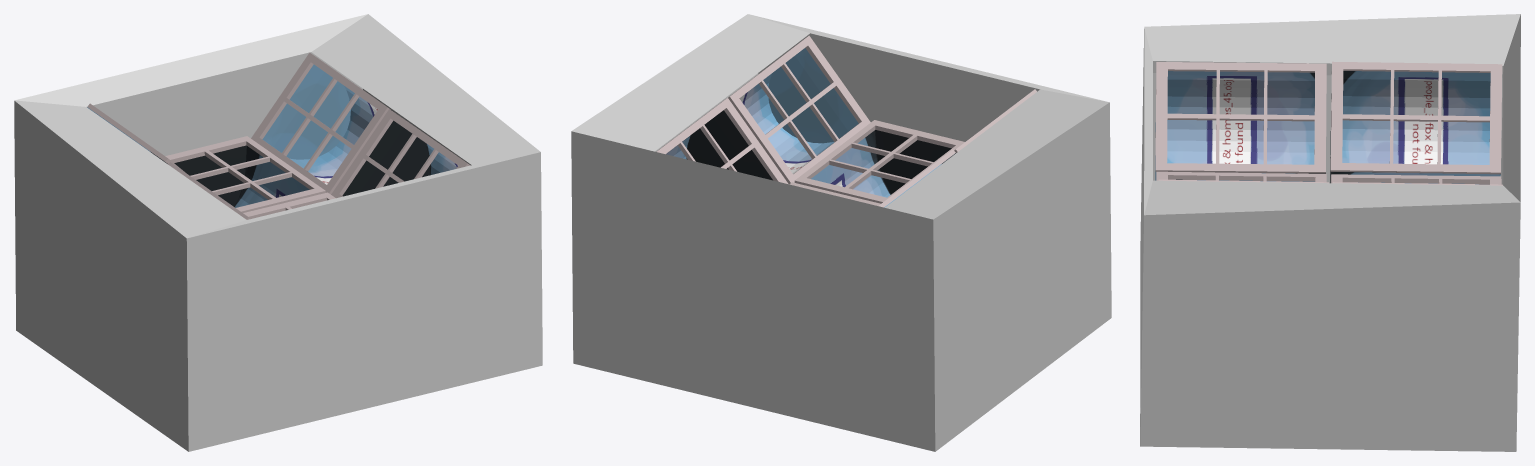
Rendered from windows.gltf.
The picture shows the model from 3 angles, left to right: view 1: azimuth 30°, elevation 25°; view 2: azimuth 150°, elevation 25°; view 3: azimuth 270°, elevation 25°; orthographic projection. The views are drawn at different scales.
Visible parts, largest first — view 1: Cube, Cylinder.002, Cylinder.006, Cylinder.004, Cylinder.001, Cylinder.003; view 2: Cube, Cylinder.004, Cylinder.001, Cylinder.002, Cylinder.003; view 3: Cube, Cylinder.003, Cylinder.005, Cylinder.006, Cylinder.001.
Boxes of the visible parts, x1=… form: Cube: x1=14, y1=14, x2=542, y2=451; Cylinder.002: x1=251, y1=52, x2=391, y2=194; Cylinder.006: x1=165, y1=136, x2=325, y2=212; Cylinder.004: x1=331, y1=109, x2=470, y2=198; Cylinder.001: x1=243, y1=192, x2=335, y2=218; Cylinder.003: x1=87, y1=103, x2=184, y2=171; Cube: x1=571, y1=14, x2=1111, y2=451; Cylinder.004: x1=728, y1=35, x2=870, y2=184; Cylinder.001: x1=794, y1=120, x2=964, y2=203; Cylinder.002: x1=656, y1=98, x2=788, y2=184; Cylinder.003: x1=878, y1=149, x2=955, y2=207; Cube: x1=1140, y1=14, x2=1520, y2=451; Cylinder.003: x1=1330, y1=61, x2=1502, y2=183; Cylinder.005: x1=1155, y1=62, x2=1326, y2=180; Cylinder.006: x1=1331, y1=174, x2=1501, y2=184; Cylinder.001: x1=1156, y1=171, x2=1326, y2=182.
Bounding box in the file's own units: 1.86 × 1.15 × 1.59.
2 materials, 1 textured.
